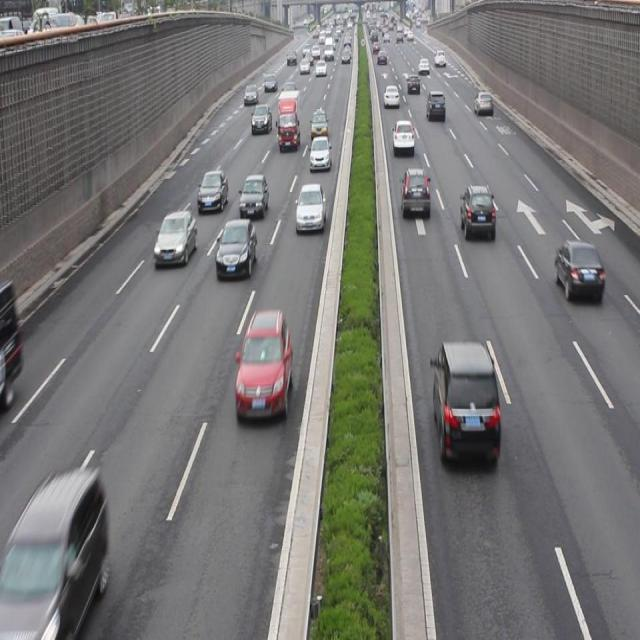bus: (276, 88, 300, 151)
car: (432, 338, 500, 462), (234, 309, 291, 420), (554, 236, 603, 302), (216, 219, 256, 280), (154, 210, 197, 266), (461, 182, 496, 243), (402, 166, 432, 218), (296, 182, 325, 234), (239, 172, 268, 220), (197, 170, 228, 212), (308, 134, 330, 171), (392, 118, 414, 153), (425, 88, 447, 120), (251, 103, 272, 132), (310, 108, 328, 137), (474, 89, 492, 115)
truck: (8, 467, 108, 640)
